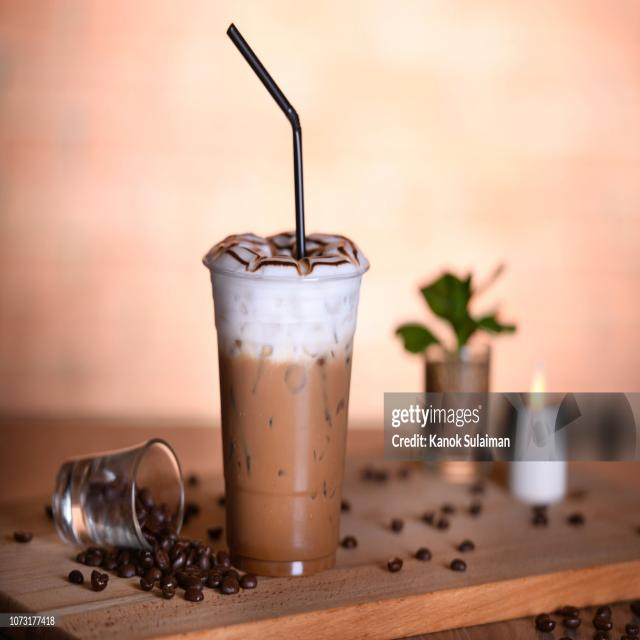cup: (202, 226, 371, 578)
